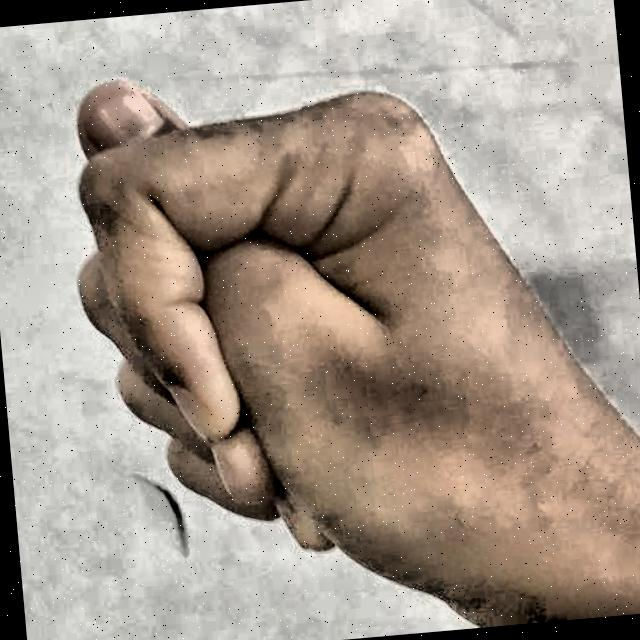Ta: (32, 4, 623, 640)
